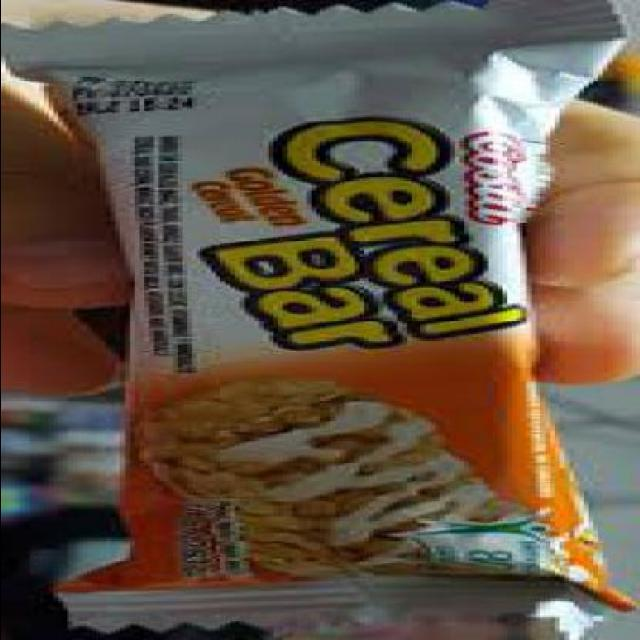Cereal bar: (9, 3, 636, 639)
